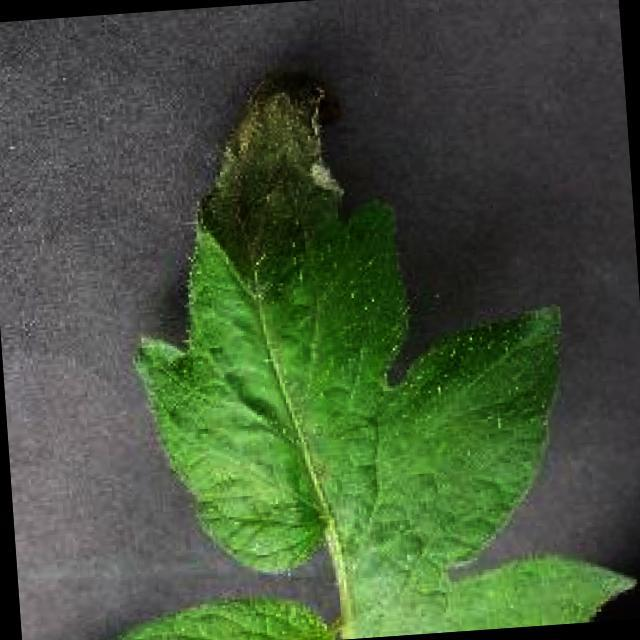Tomato late blight leaf: (111, 44, 640, 640)
